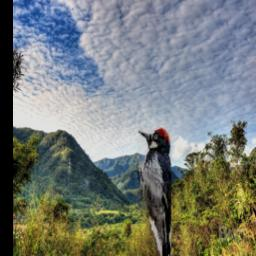Woodpecker: (137, 127, 171, 256)
